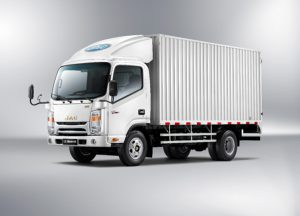truck: (45, 33, 265, 167)
